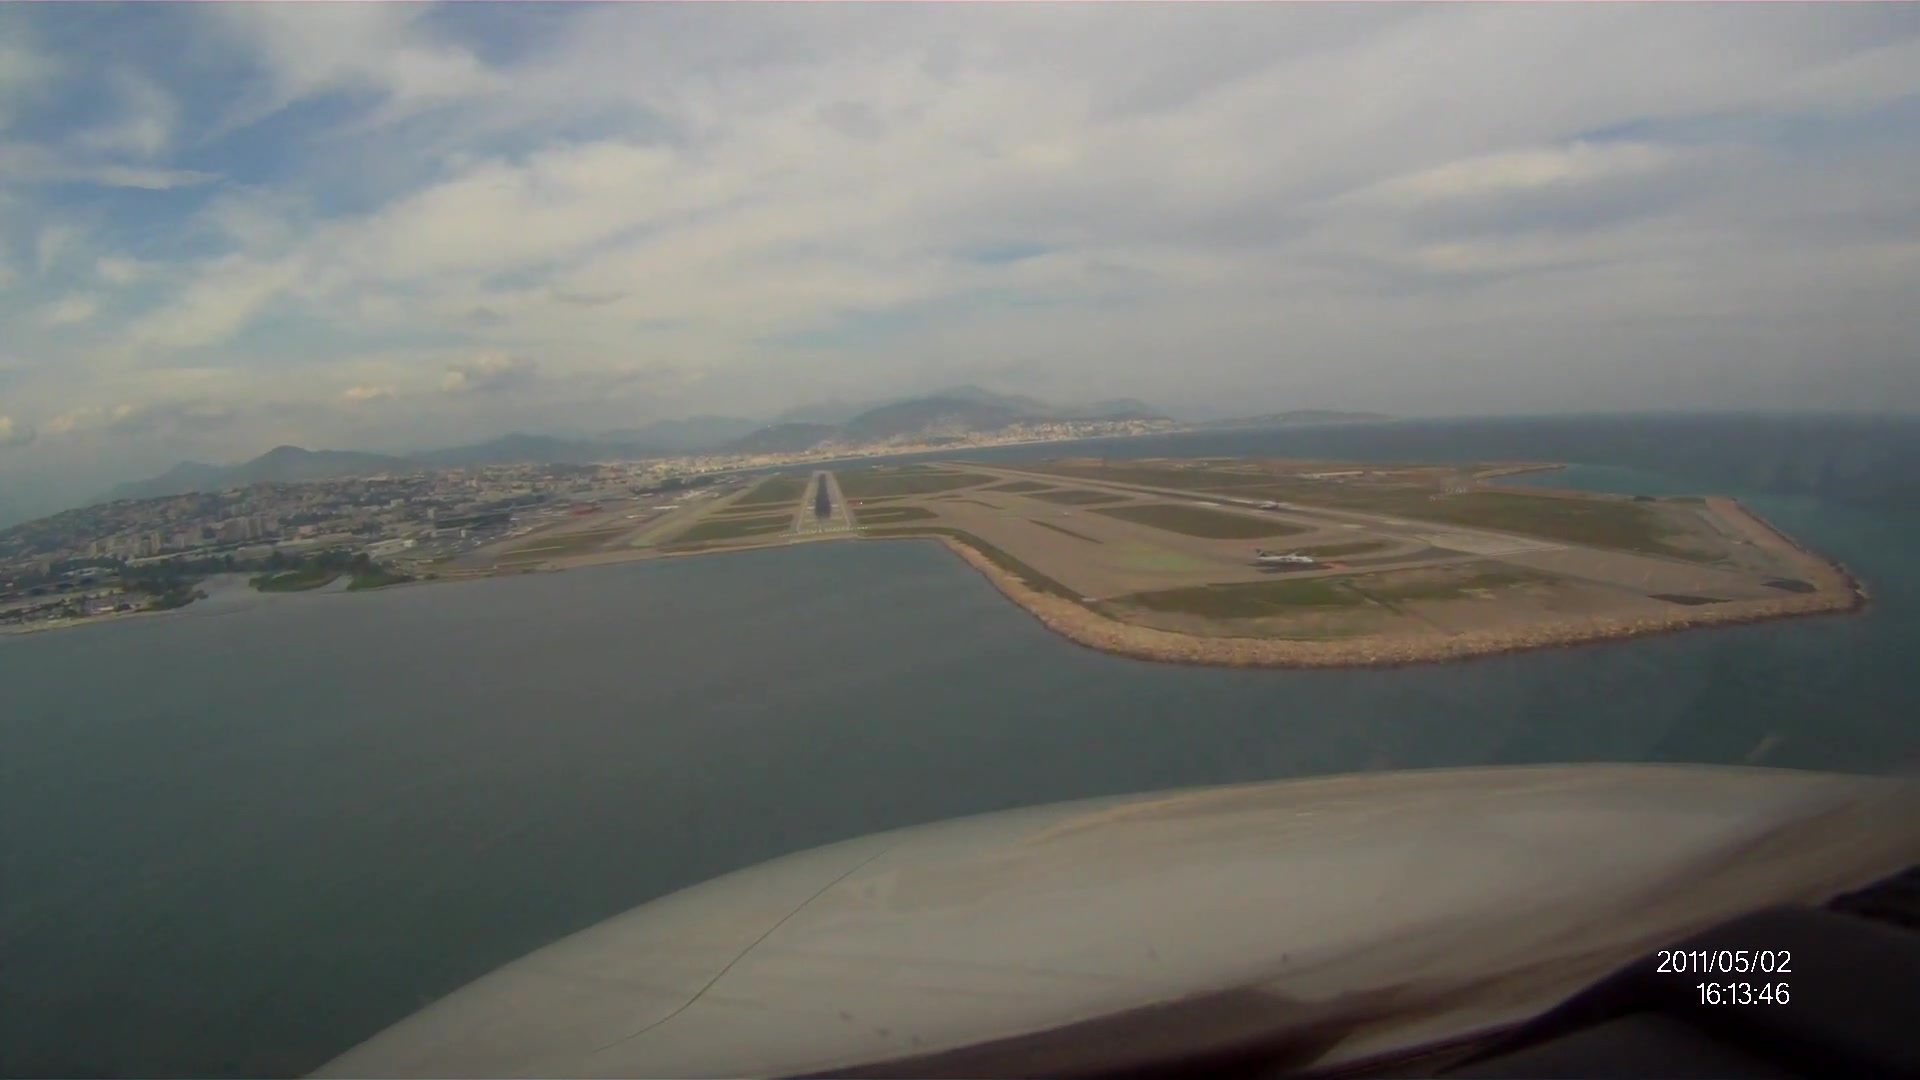entrance: (802, 524, 847, 534)
runway: (789, 469, 856, 543)
